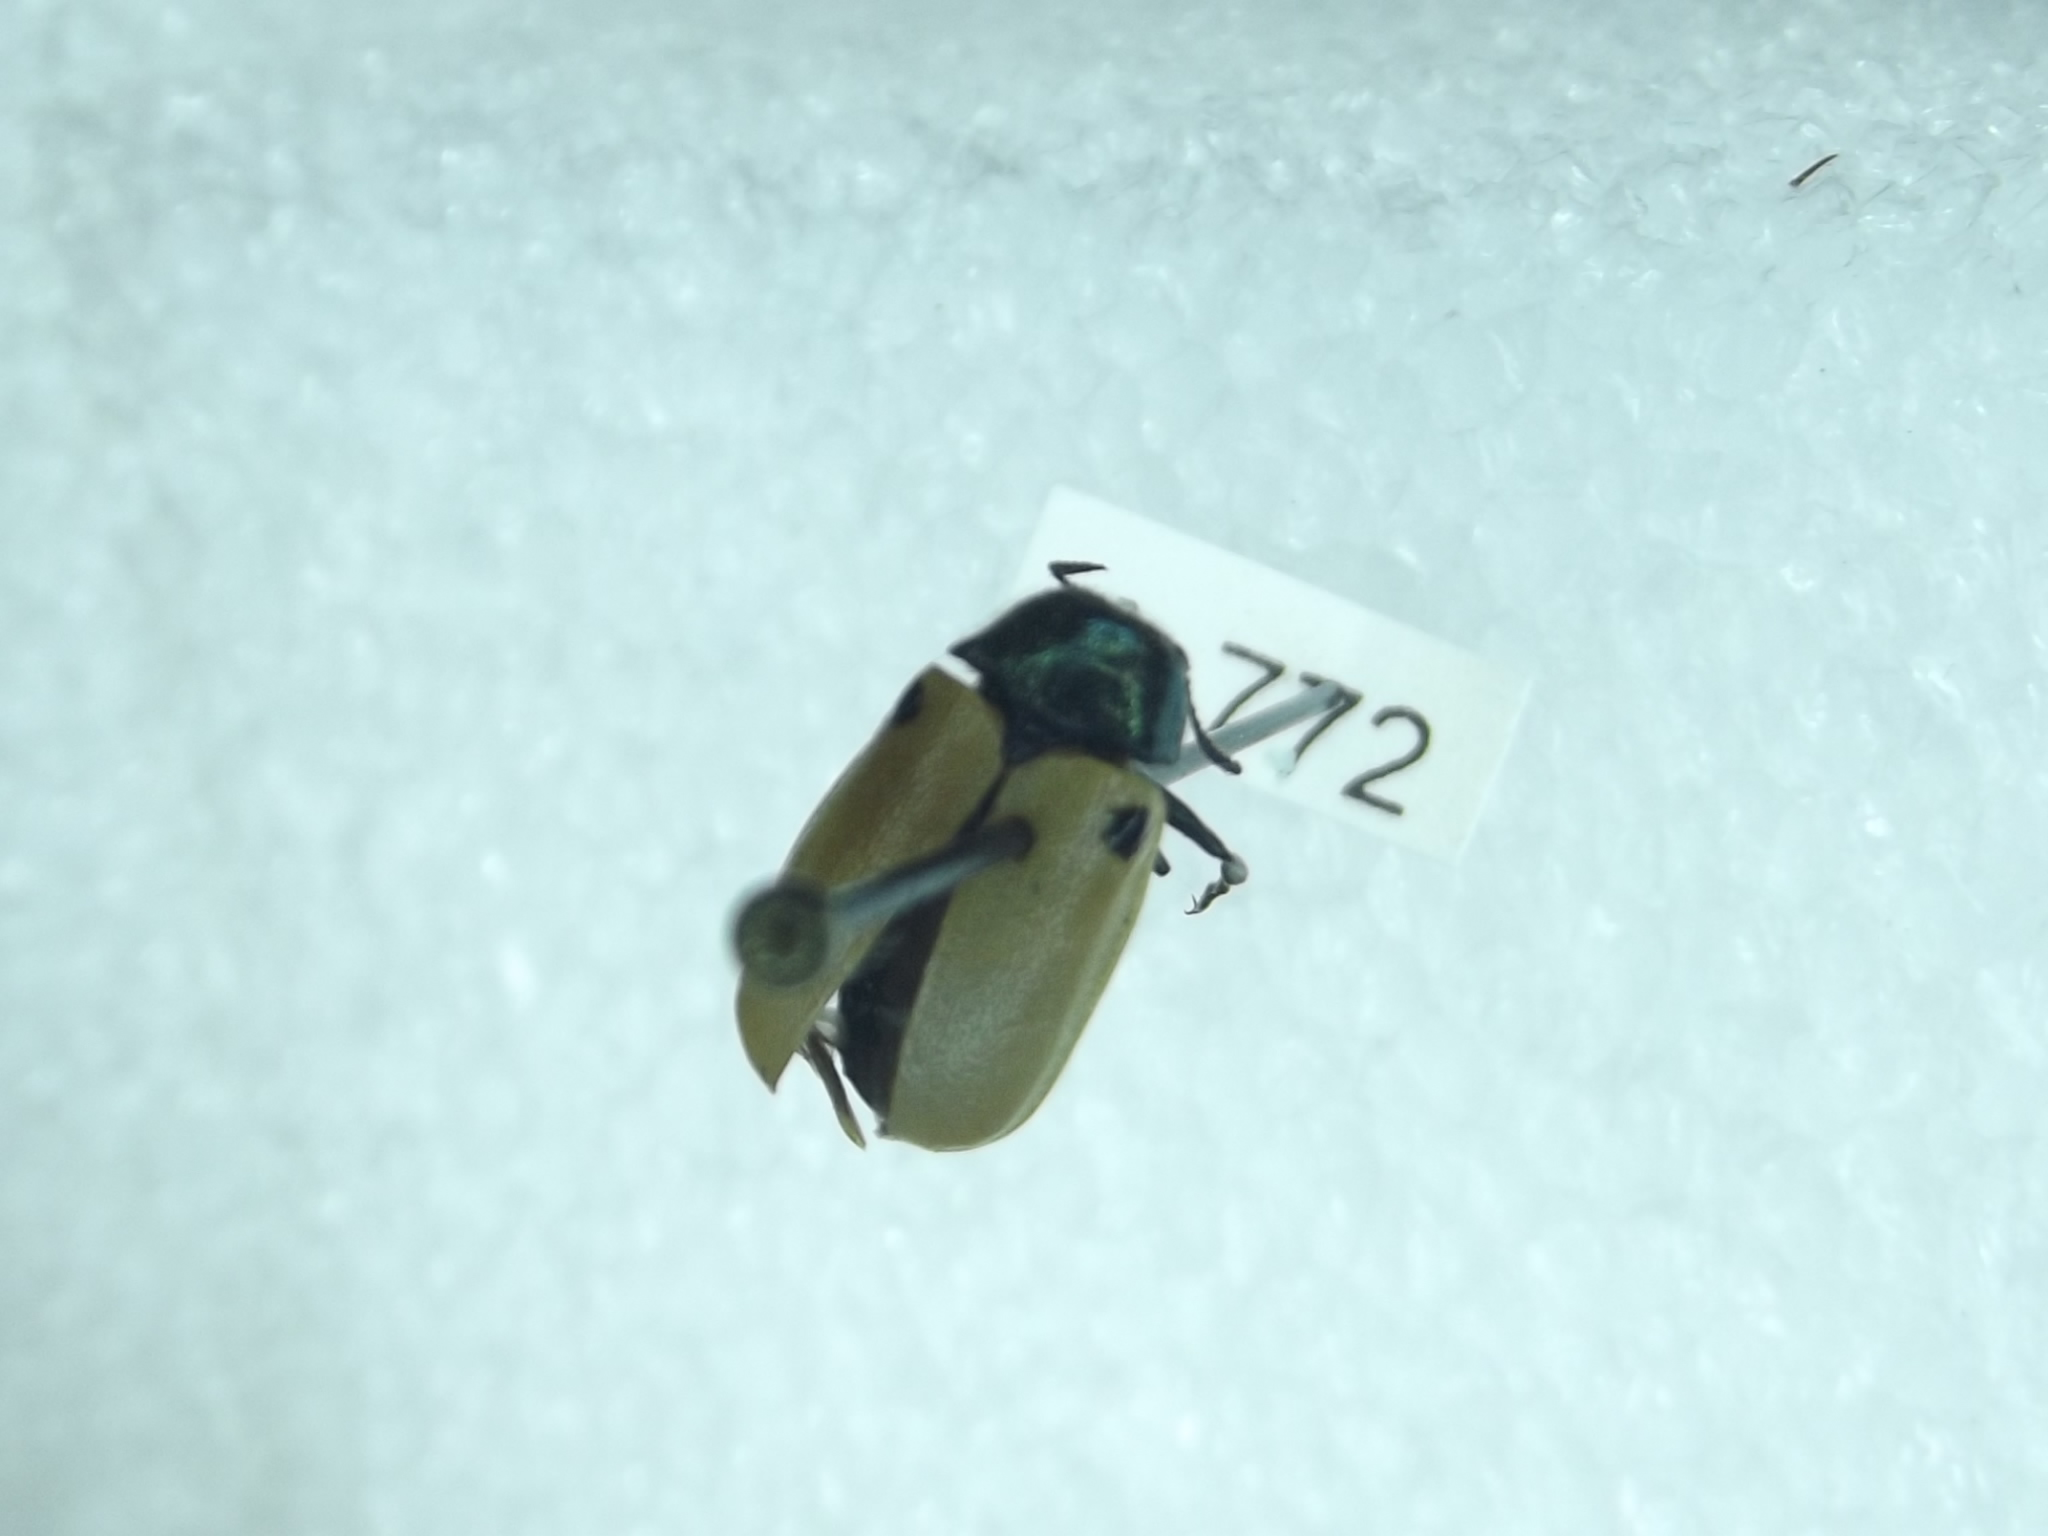Labidostomis_propinqua: (693, 555, 1268, 1158)
